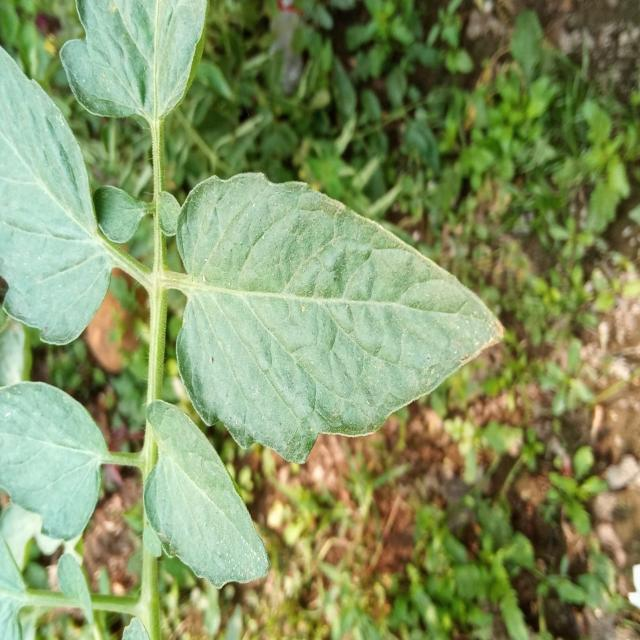Healthy: (88, 126, 512, 531), (101, 386, 277, 610), (0, 50, 113, 344), (51, 0, 208, 129), (0, 382, 108, 540)
